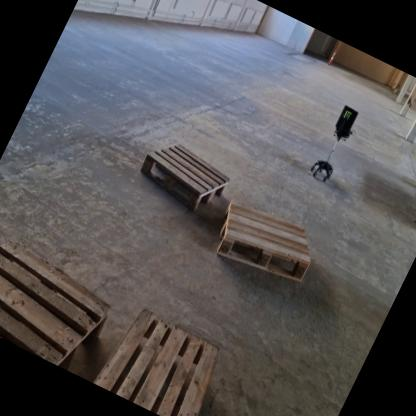BoxFace: (0, 236, 112, 371), (91, 305, 223, 416), (216, 198, 314, 283), (137, 140, 234, 217)
